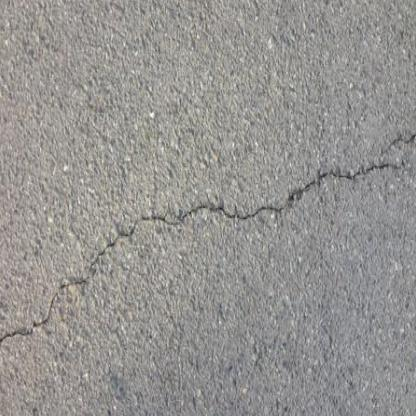Cracks: (131, 84, 416, 242), (0, 194, 271, 360)
